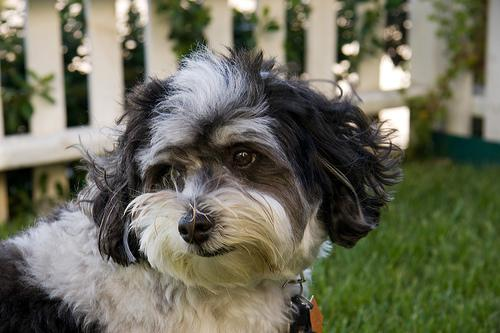dog-havanese: (94, 57, 380, 269)
